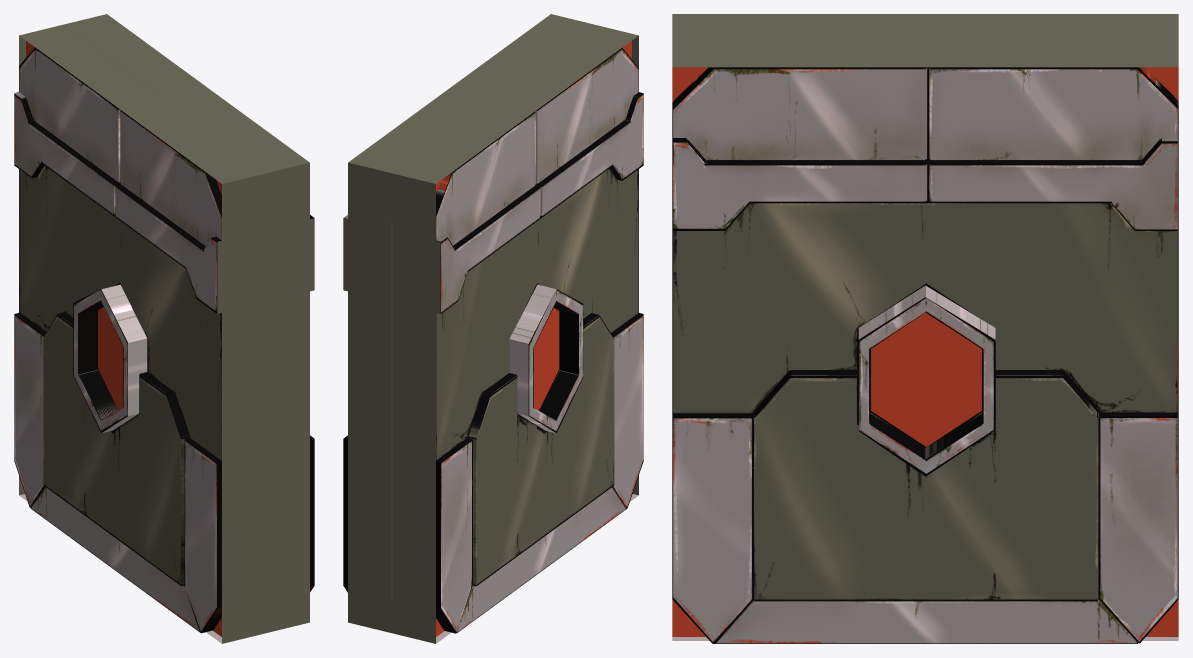
Rendered from door.fbx.
3 views of the same model, side by side, from view 1: azimuth 30°, elevation 25°; view 2: azimuth 150°, elevation 25°; view 3: azimuth 270°, elevation 25° (orthographic). The views are drawn at different scales.
Visible parts, largest first — view 1: Cube; view 2: Cube; view 3: Cube.
Part boxes in pixels (x1,y1,x2,y2): Cube: [14, 14, 314, 643]; Cube: [343, 14, 643, 643]; Cube: [672, 14, 1178, 643].
Bounding box in the file's own units: 144 × 500 × 400.
Materials: 1 (1 with a texture image).
